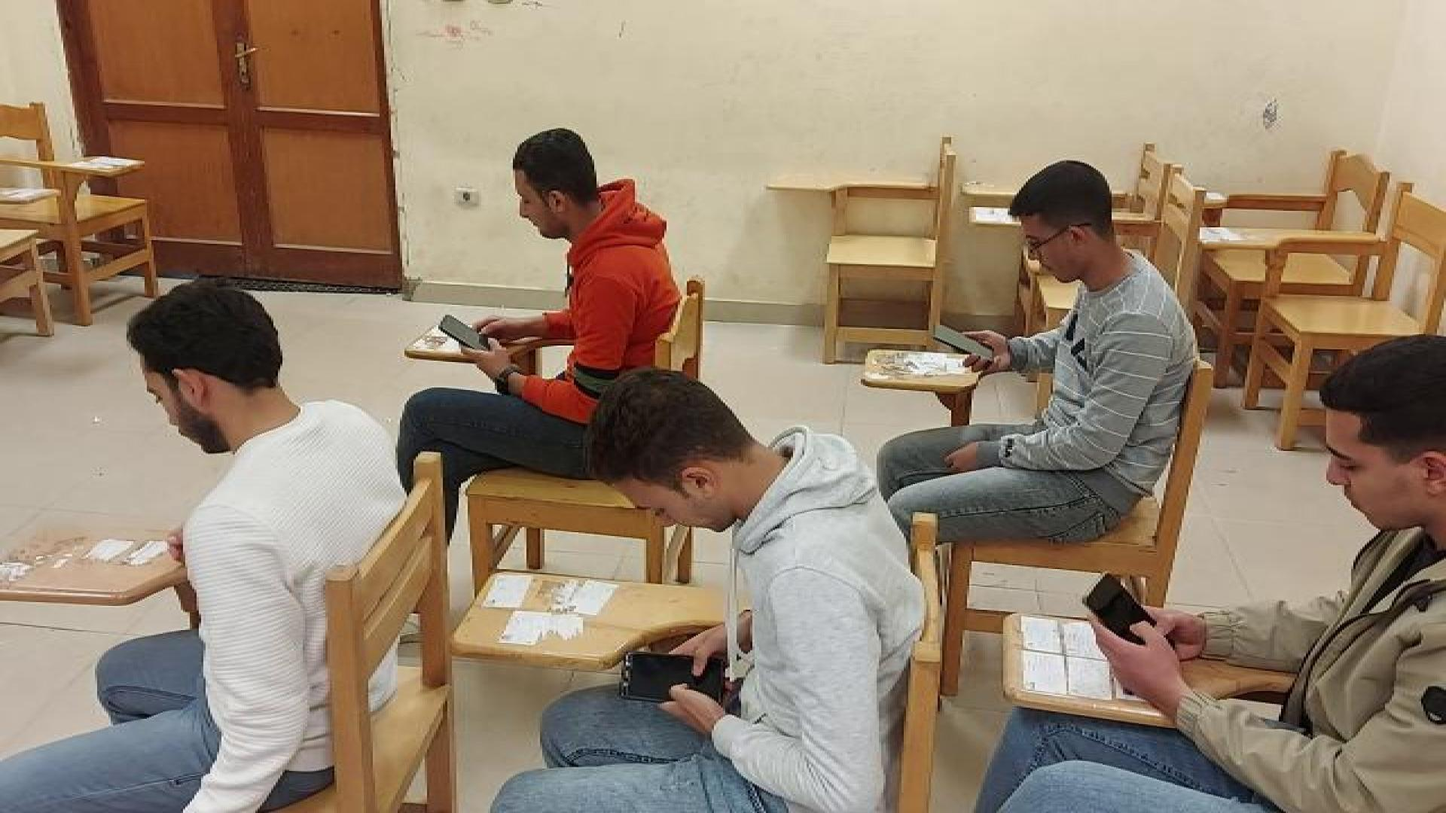phone: (1082, 566, 1179, 653), (619, 646, 728, 714), (927, 318, 1000, 367), (438, 312, 506, 354)
